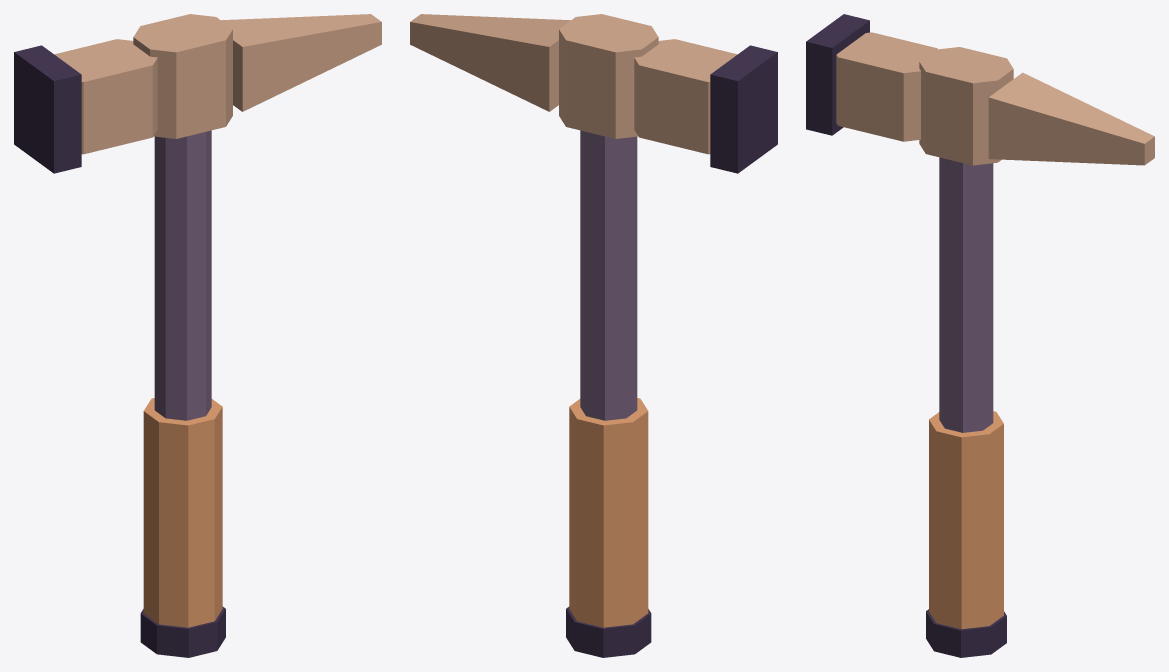
The model's file is rock_hammer.obj.
3 renders of one model, left to right at view 1: azimuth 30°, elevation 25°; view 2: azimuth 150°, elevation 25°; view 3: azimuth 330°, elevation 25°, orthographic. The views are drawn at different scales.
Parts seen in each view (by area): view 1: rock_hammer_clay_sand, rock_hammer_warm_orange, rock_hammer_mauve, rock_hammer_deep_purple; view 2: rock_hammer_clay_sand, rock_hammer_warm_orange, rock_hammer_mauve, rock_hammer_deep_purple; view 3: rock_hammer_clay_sand, rock_hammer_warm_orange, rock_hammer_mauve, rock_hammer_deep_purple.
Part boxes in pixels (x1,y1,x2,y2): rock_hammer_clay_sand: (54,14,381,154); rock_hammer_warm_orange: (143,398,222,627); rock_hammer_mauve: (154,130,211,420); rock_hammer_deep_purple: (14,45,225,657); rock_hammer_clay_sand: (410,14,737,154); rock_hammer_warm_orange: (569,398,648,627); rock_hammer_mauve: (580,130,637,420); rock_hammer_deep_purple: (566,45,777,657); rock_hammer_clay_sand: (836,32,1154,165); rock_hammer_warm_orange: (929,411,1003,629); rock_hammer_mauve: (939,157,993,432); rock_hammer_deep_purple: (806,14,1006,657).
Size of the model in its own units: 0.248 by 0.422 by 0.05.
